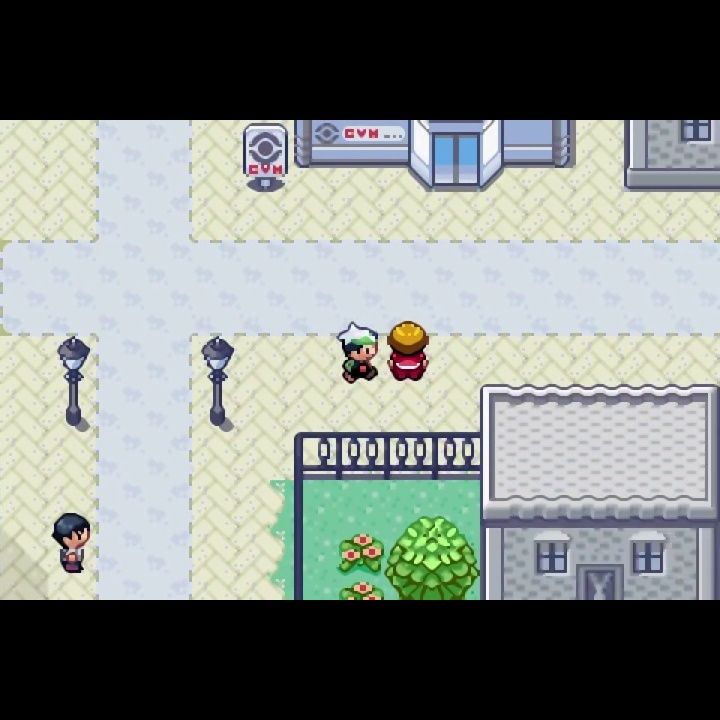gym: (294, 120, 577, 194)
house: (479, 383, 720, 601)
npc: (333, 316, 383, 389), (46, 509, 94, 575), (385, 318, 433, 384)
wall: (384, 513, 480, 601)
